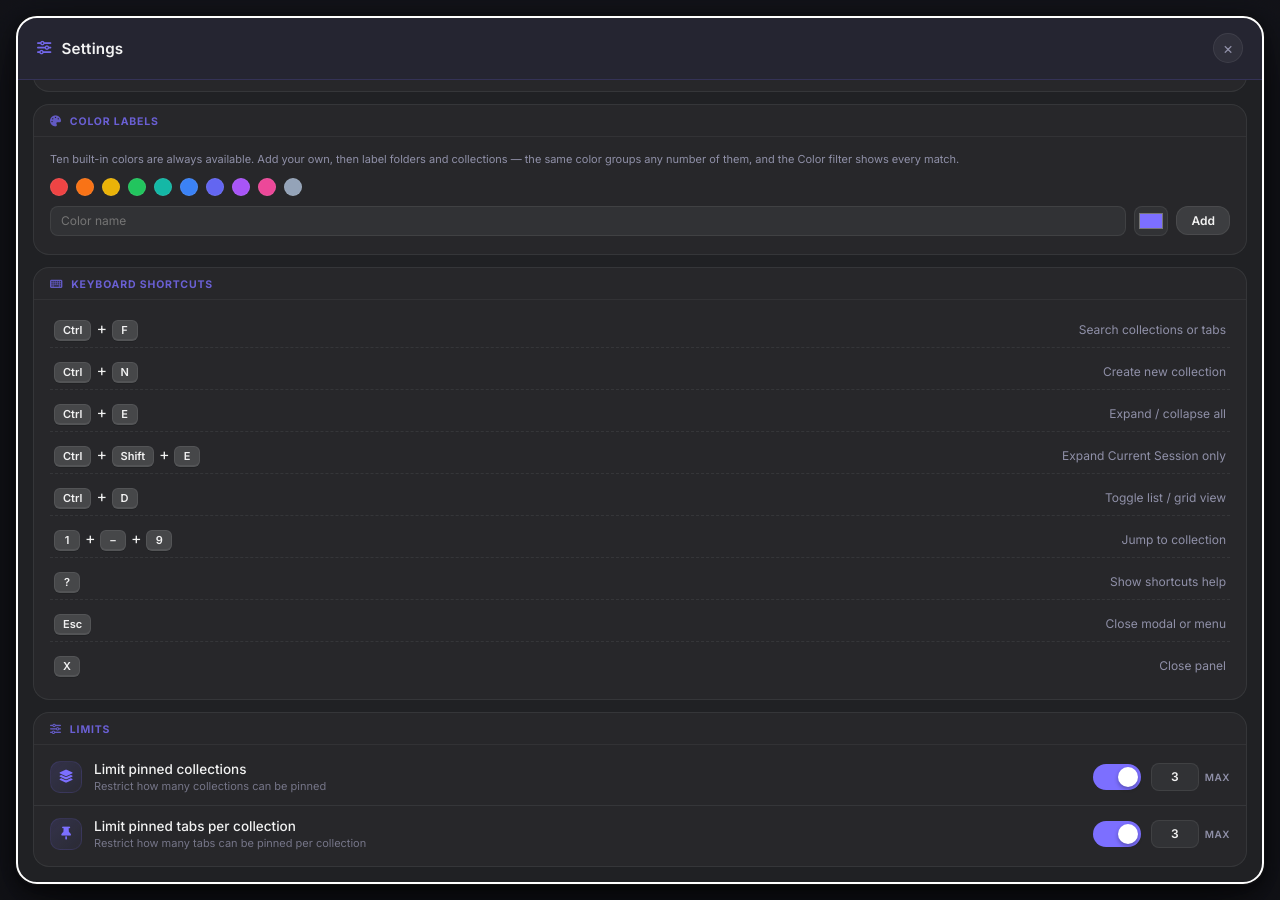
SettingsModal › clamps a pinned limit and shows the stored value
The width and height of the screenshot is (1280, 900).
(page scrolled)
Replace the text in the number field named "Maximum pinned tabs per collection" with "99". click: (1175, 834)
box: [1151,820,1199,848]
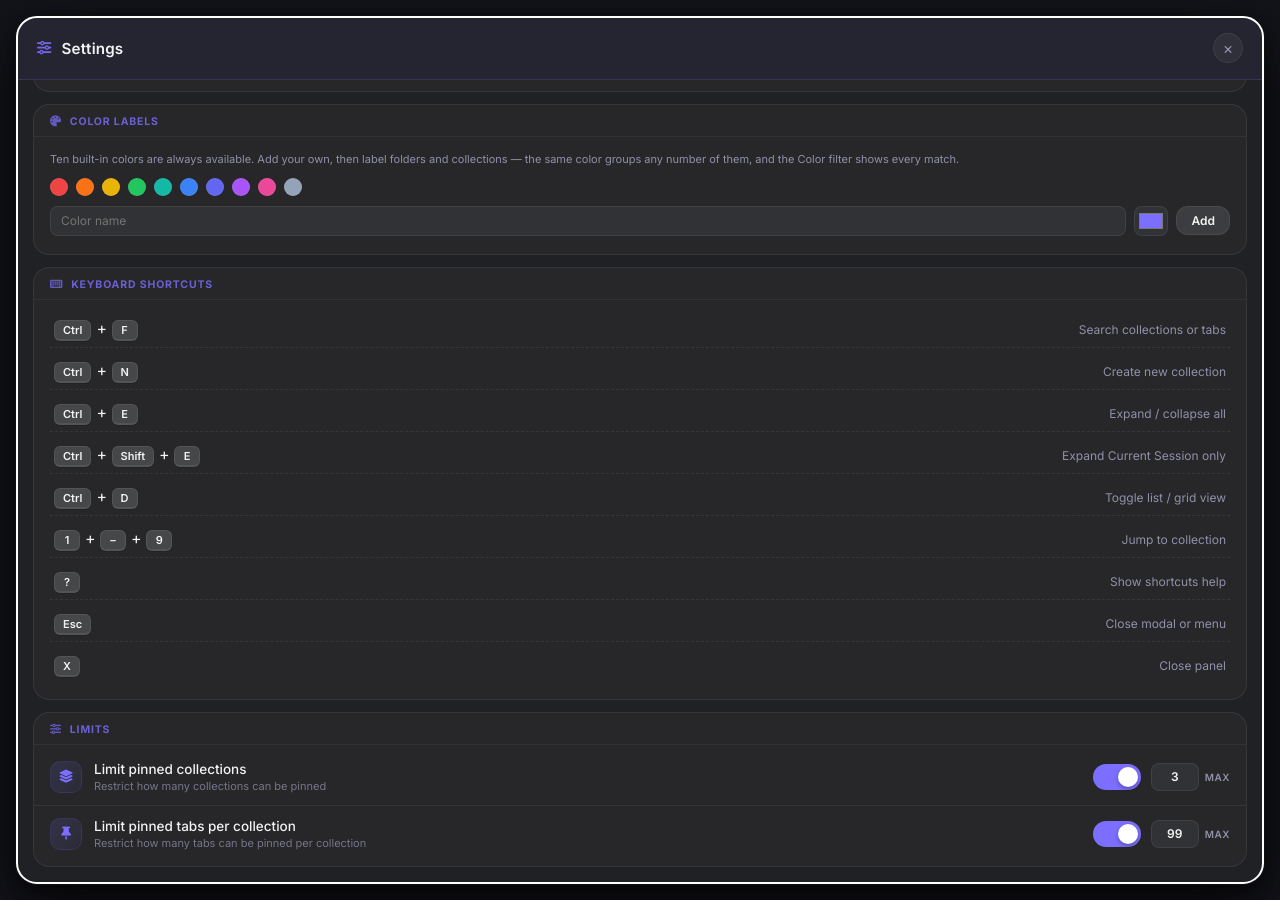
Leave the number field named "Maximum pinned tabs per collection", box [1151,820,1199,848]
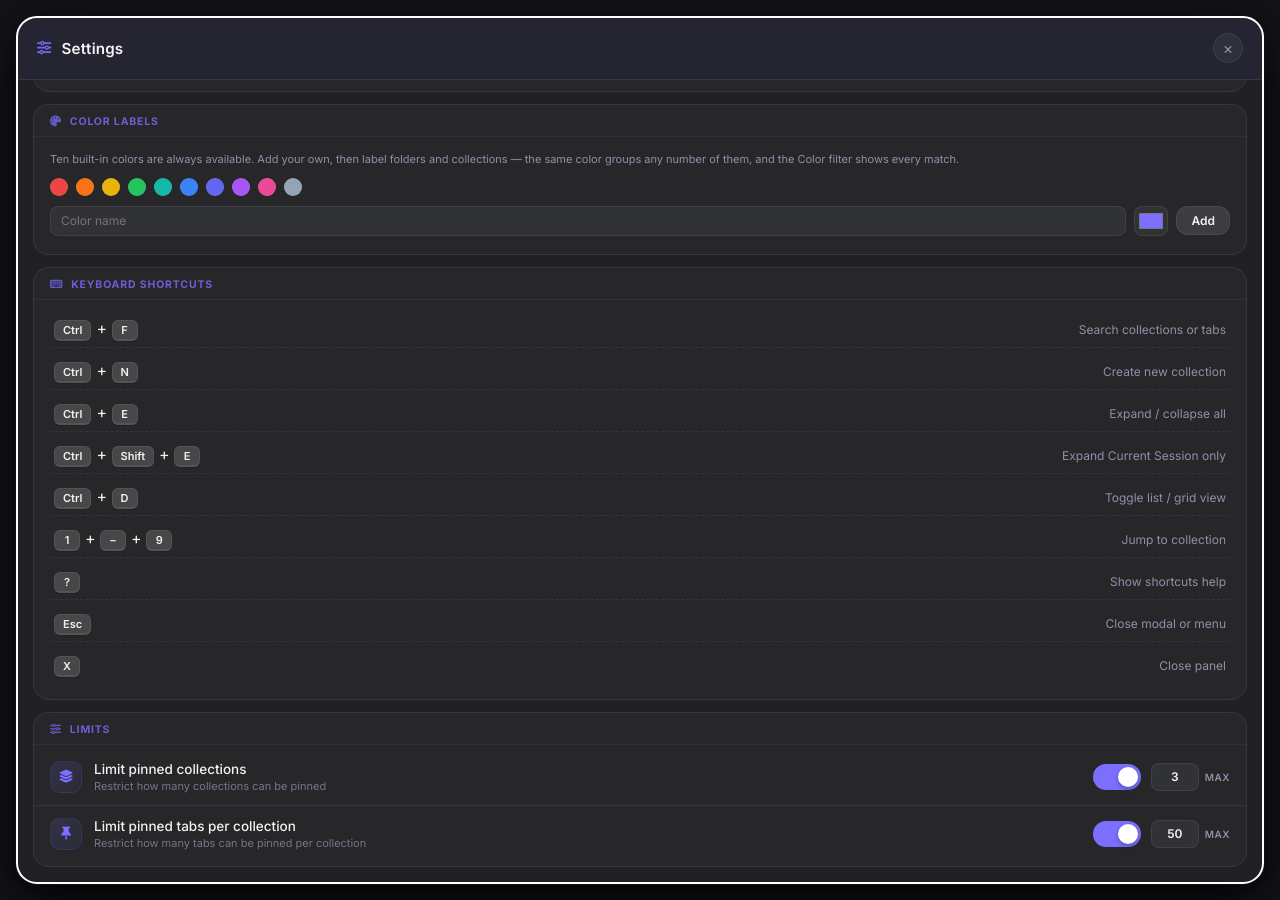
Expected: the number field named "Maximum pinned tabs per collection" holds "50", [1151,820,1199,848]
